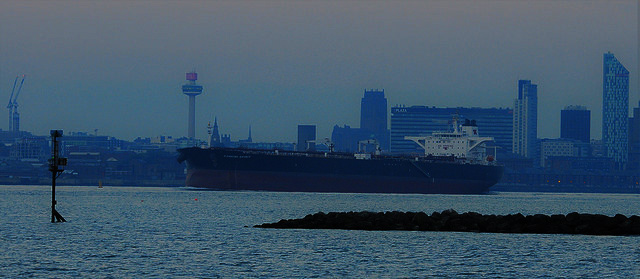tanker: (177, 110, 504, 194)
